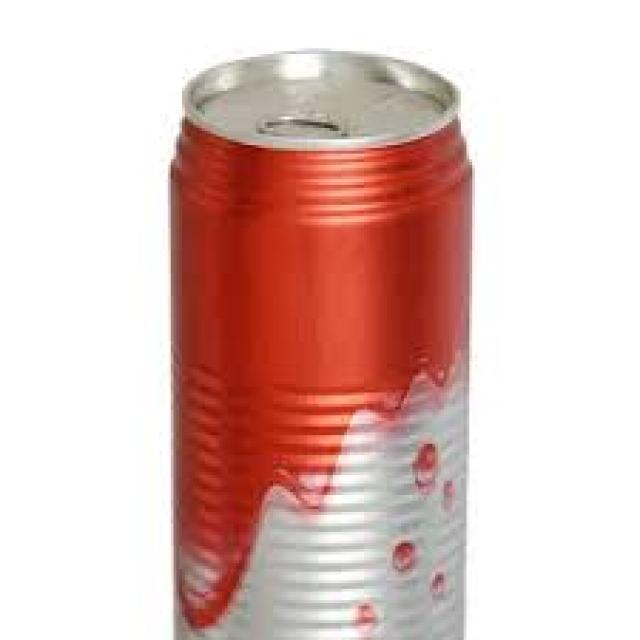Cans: (159, 43, 484, 637)
